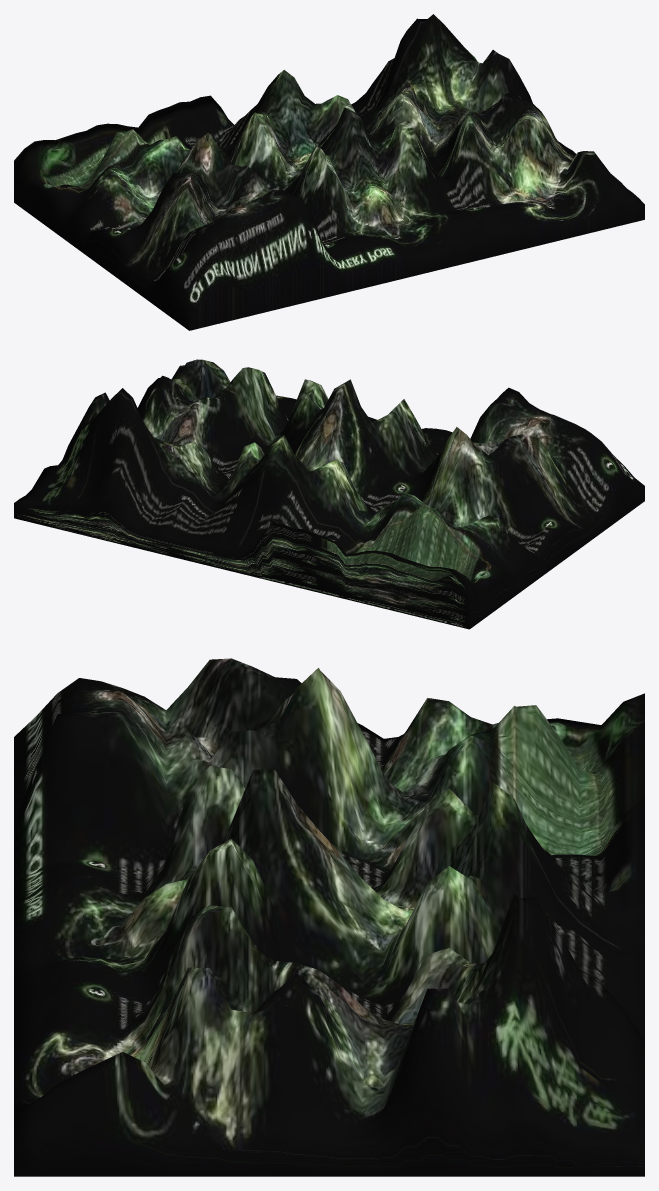
File: CUL_09_Qi_Deviation_Healing.glb
The picture shows the model from 3 angles, top to bottom: view 1: azimuth 30°, elevation 25°; view 2: azimuth 150°, elevation 25°; view 3: azimuth 270°, elevation 25°; orthographic projection. The views are drawn at different scales.
Visible parts, largest first — view 1: CUL_09_Qi_Deviation_Healing; view 2: CUL_09_Qi_Deviation_Healing; view 3: CUL_09_Qi_Deviation_Healing.
Part boxes in pixels (<box>): CUL_09_Qi_Deviation_Healing: <box>14,14,644,330</box>; CUL_09_Qi_Deviation_Healing: <box>14,359,644,629</box>; CUL_09_Qi_Deviation_Healing: <box>14,658,644,1176</box>.
Size of the model in its own units: 2 by 0.51 by 1.33.
1 material, 1 textured.
